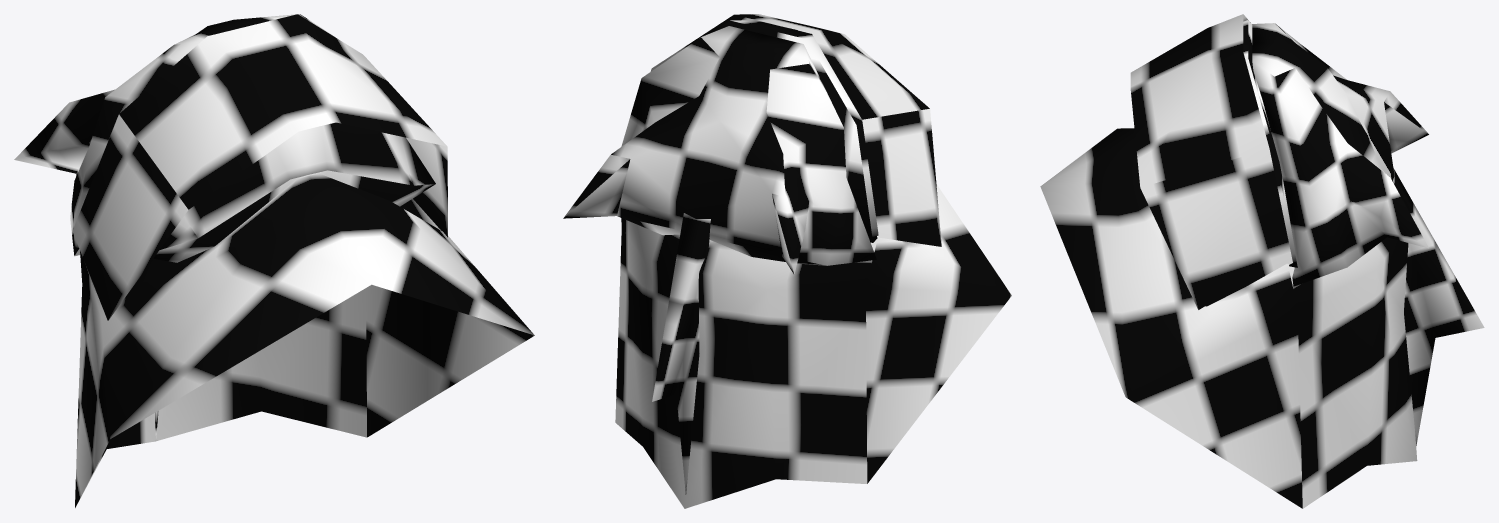
Rendered from infaunmoto.dae.
3 views of the same model, side by side, from view 1: azimuth 30°, elevation 25°; view 2: azimuth 150°, elevation 25°; view 3: azimuth 270°, elevation 25° (orthographic). The views are drawn at different scales.
Parts seen in each view (by area): view 1: face; view 2: face; view 3: face.
Part boxes in pixels (left/top/right/bottom): face: left=14, top=14, right=534, bottom=507; face: left=563, top=14, right=1011, bottom=508; face: left=1040, top=14, right=1484, bottom=508.
Bounding box in the file's own units: 1.93 × 2.01 × 2.13.
Materials: 1 (1 with a texture image).
